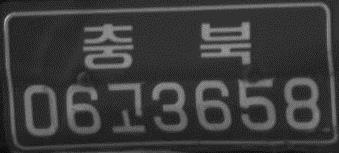0: (23, 81, 58, 139)
3: (149, 79, 188, 135)
5: (236, 77, 278, 133)
6: (63, 80, 101, 136), (194, 78, 231, 132)
8: (282, 76, 322, 131)
고: (106, 80, 146, 135)
충북_D: (81, 19, 254, 73)
